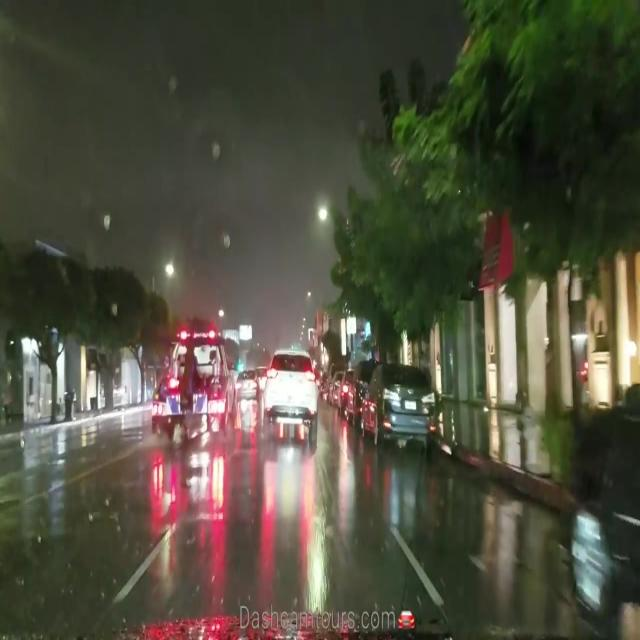Car: (358, 359, 433, 453), (263, 350, 318, 442), (234, 369, 258, 400)
